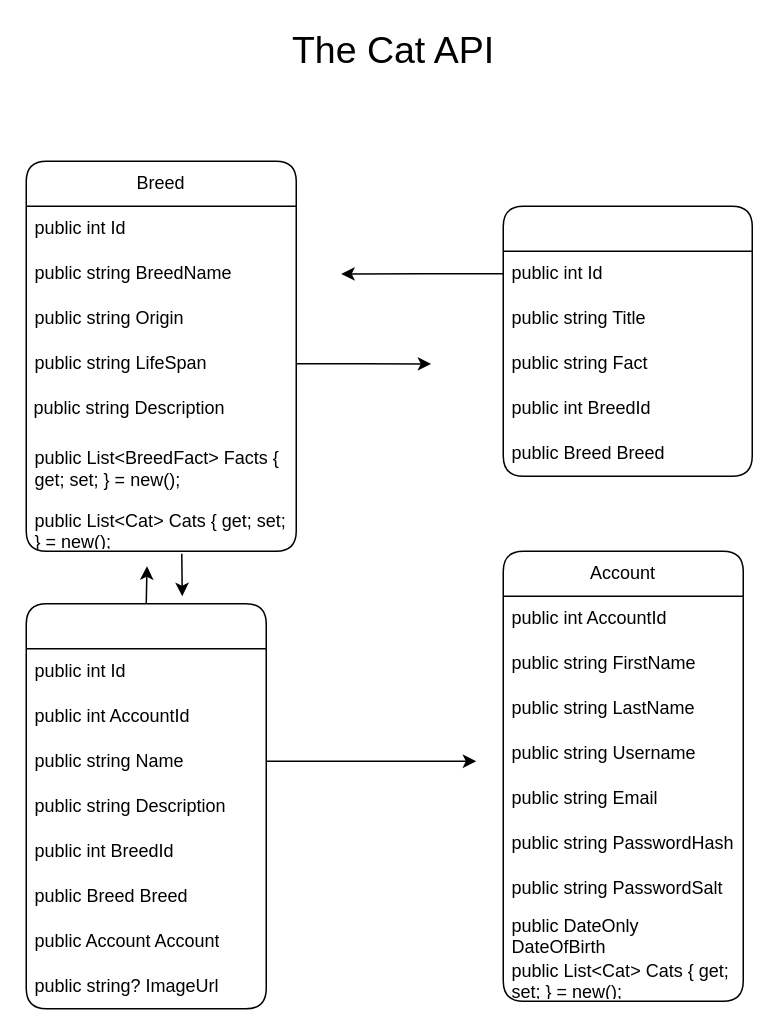
Image size: 779x1035. Some labels were removed from this diagram. The shapes that lost their labels are listed below. From the top down, each one's box as (x1, y1, x2, y2) in pixels, then its label:
(502, 205, 752, 476): BreedFact
(25, 602, 266, 1009): Cat
